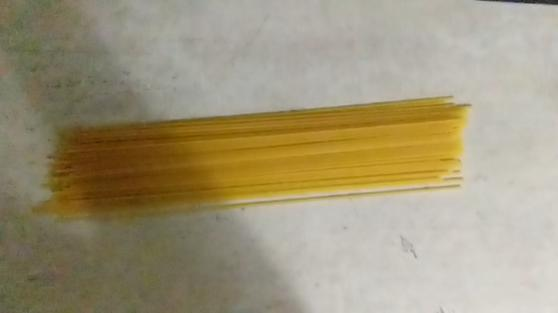spaghetti: (35, 90, 480, 227)
